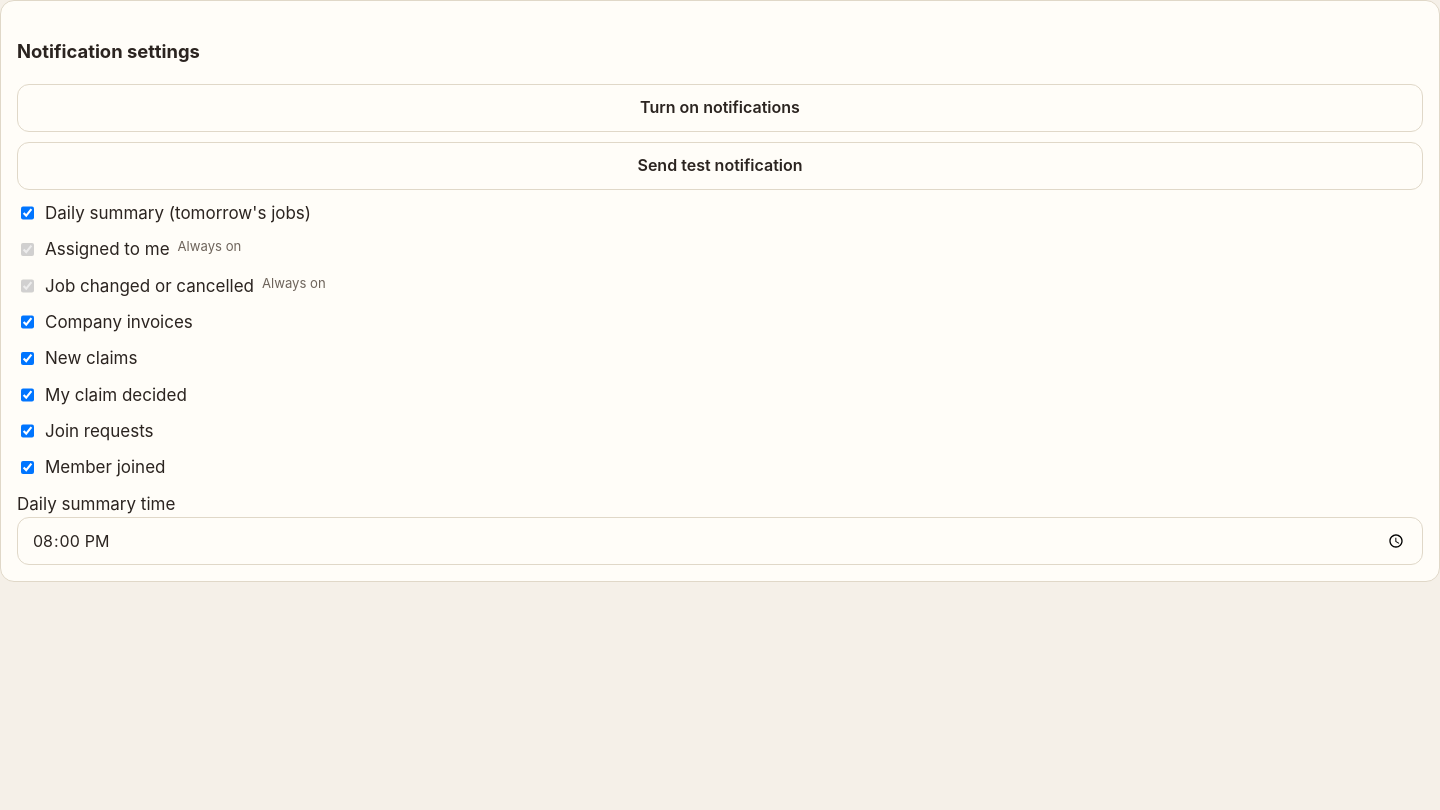
Test: NotifySettings › test with no device registered says to turn notifications on first
Click the button "Send test notification" at (720,166), box x1=17 y1=142 x2=1423 y2=190
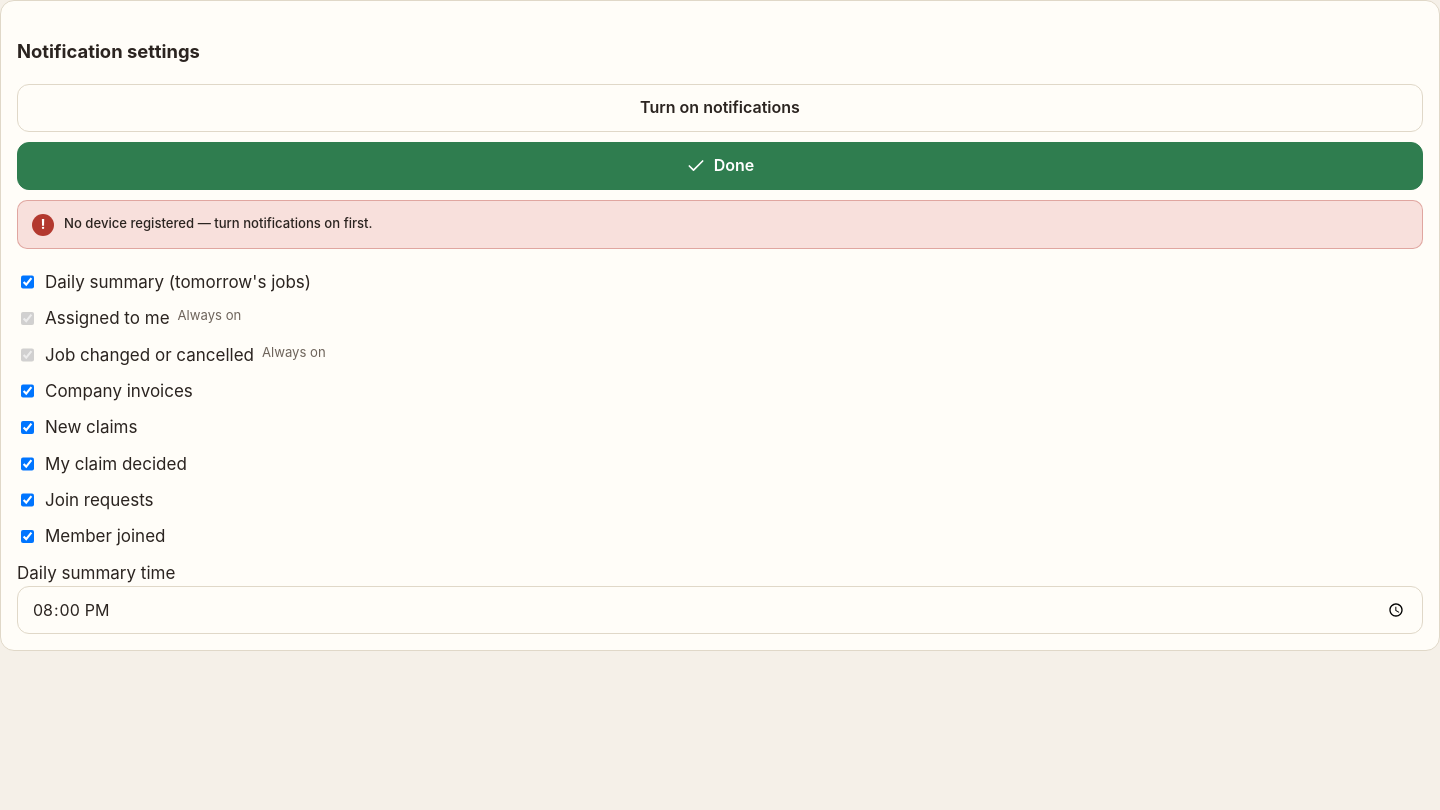
Expected: the text "No device registered — turn notifications on first." is shown, x1=17 y1=200 x2=1423 y2=249
